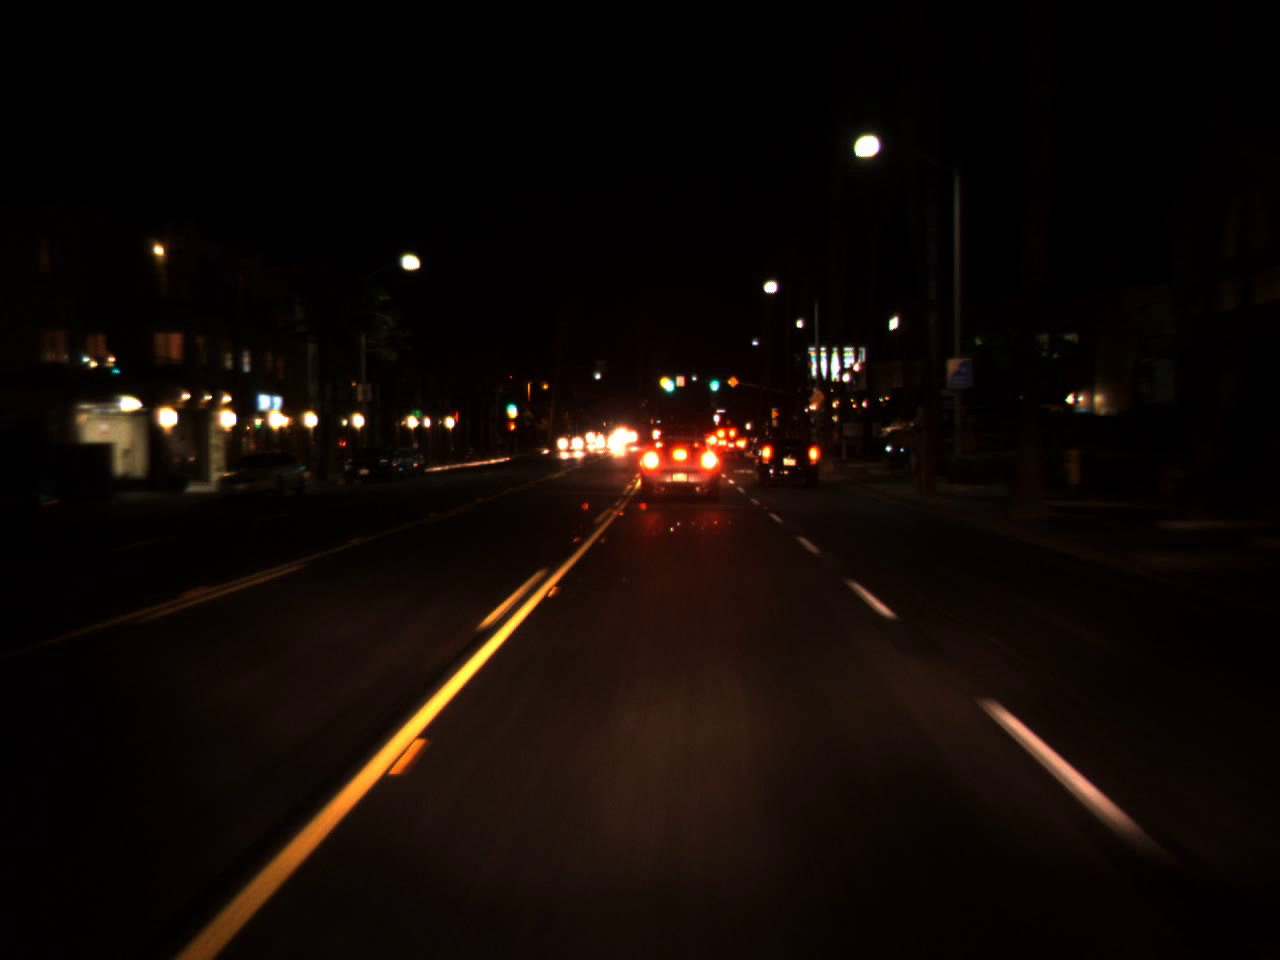go: (660, 366, 678, 396), (709, 370, 719, 391), (504, 396, 518, 411)
